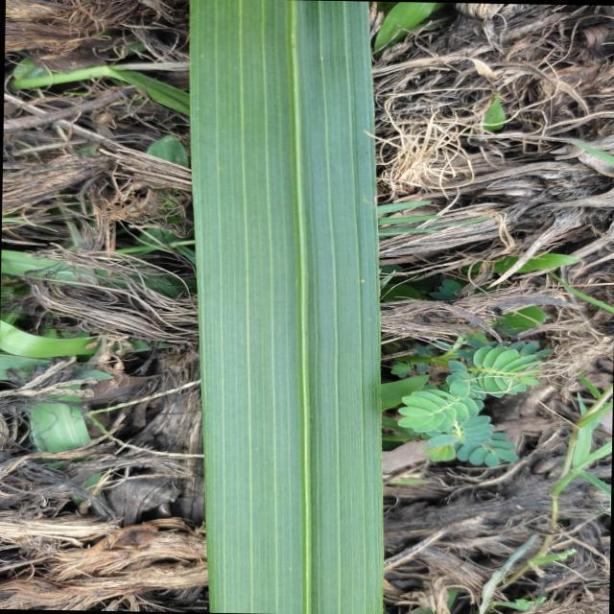Healthy: (190, 0, 390, 614)
